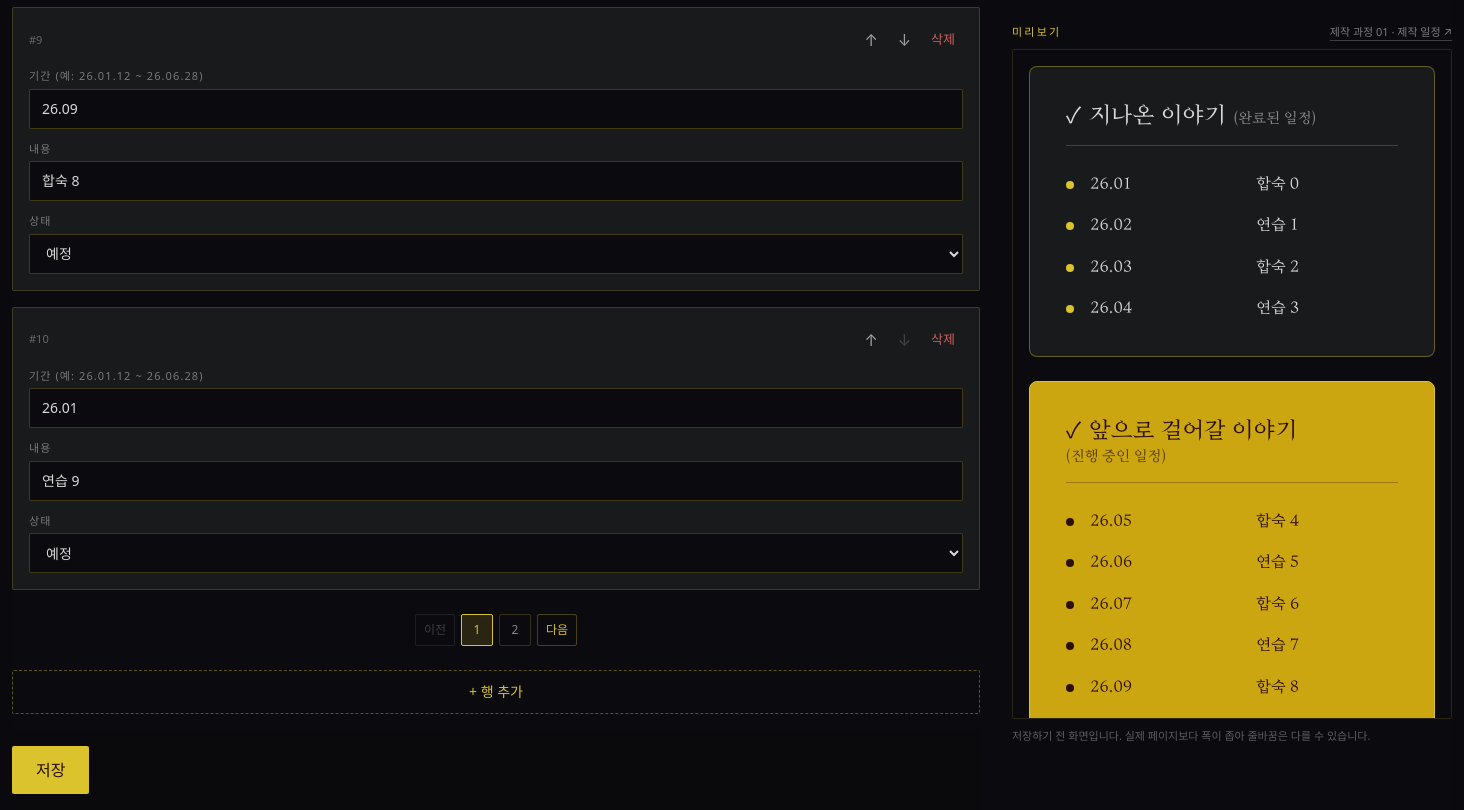
Test case: ListEditor — 찾기·거르기·페이지 › 목록 아래에도 쪽 번호를 둔다 — 다 훑고 내려온 자리에서 바로 넘길 수 있어야 한다
This screenshot has width=1464, height=810.
(page scrolled)
Expected: the navigation bar named "목록 쪽 이동" is shown, [415,614,577,646]
Click the button named "2쪽": click(515, 630) [499,614,531,646]
(page scrolled)
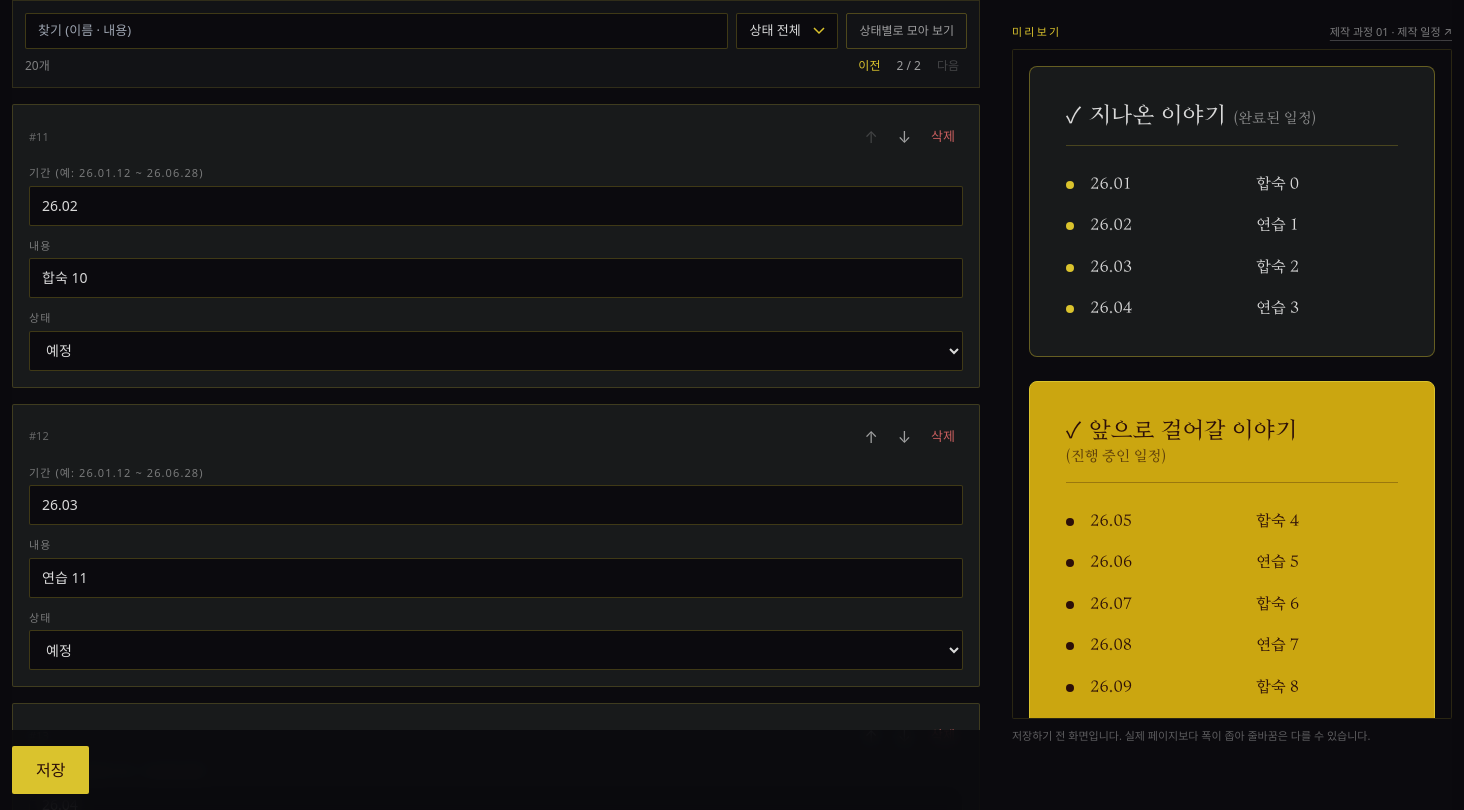
Expected: the text "2 / 2" is shown, [896,57,921,75]
